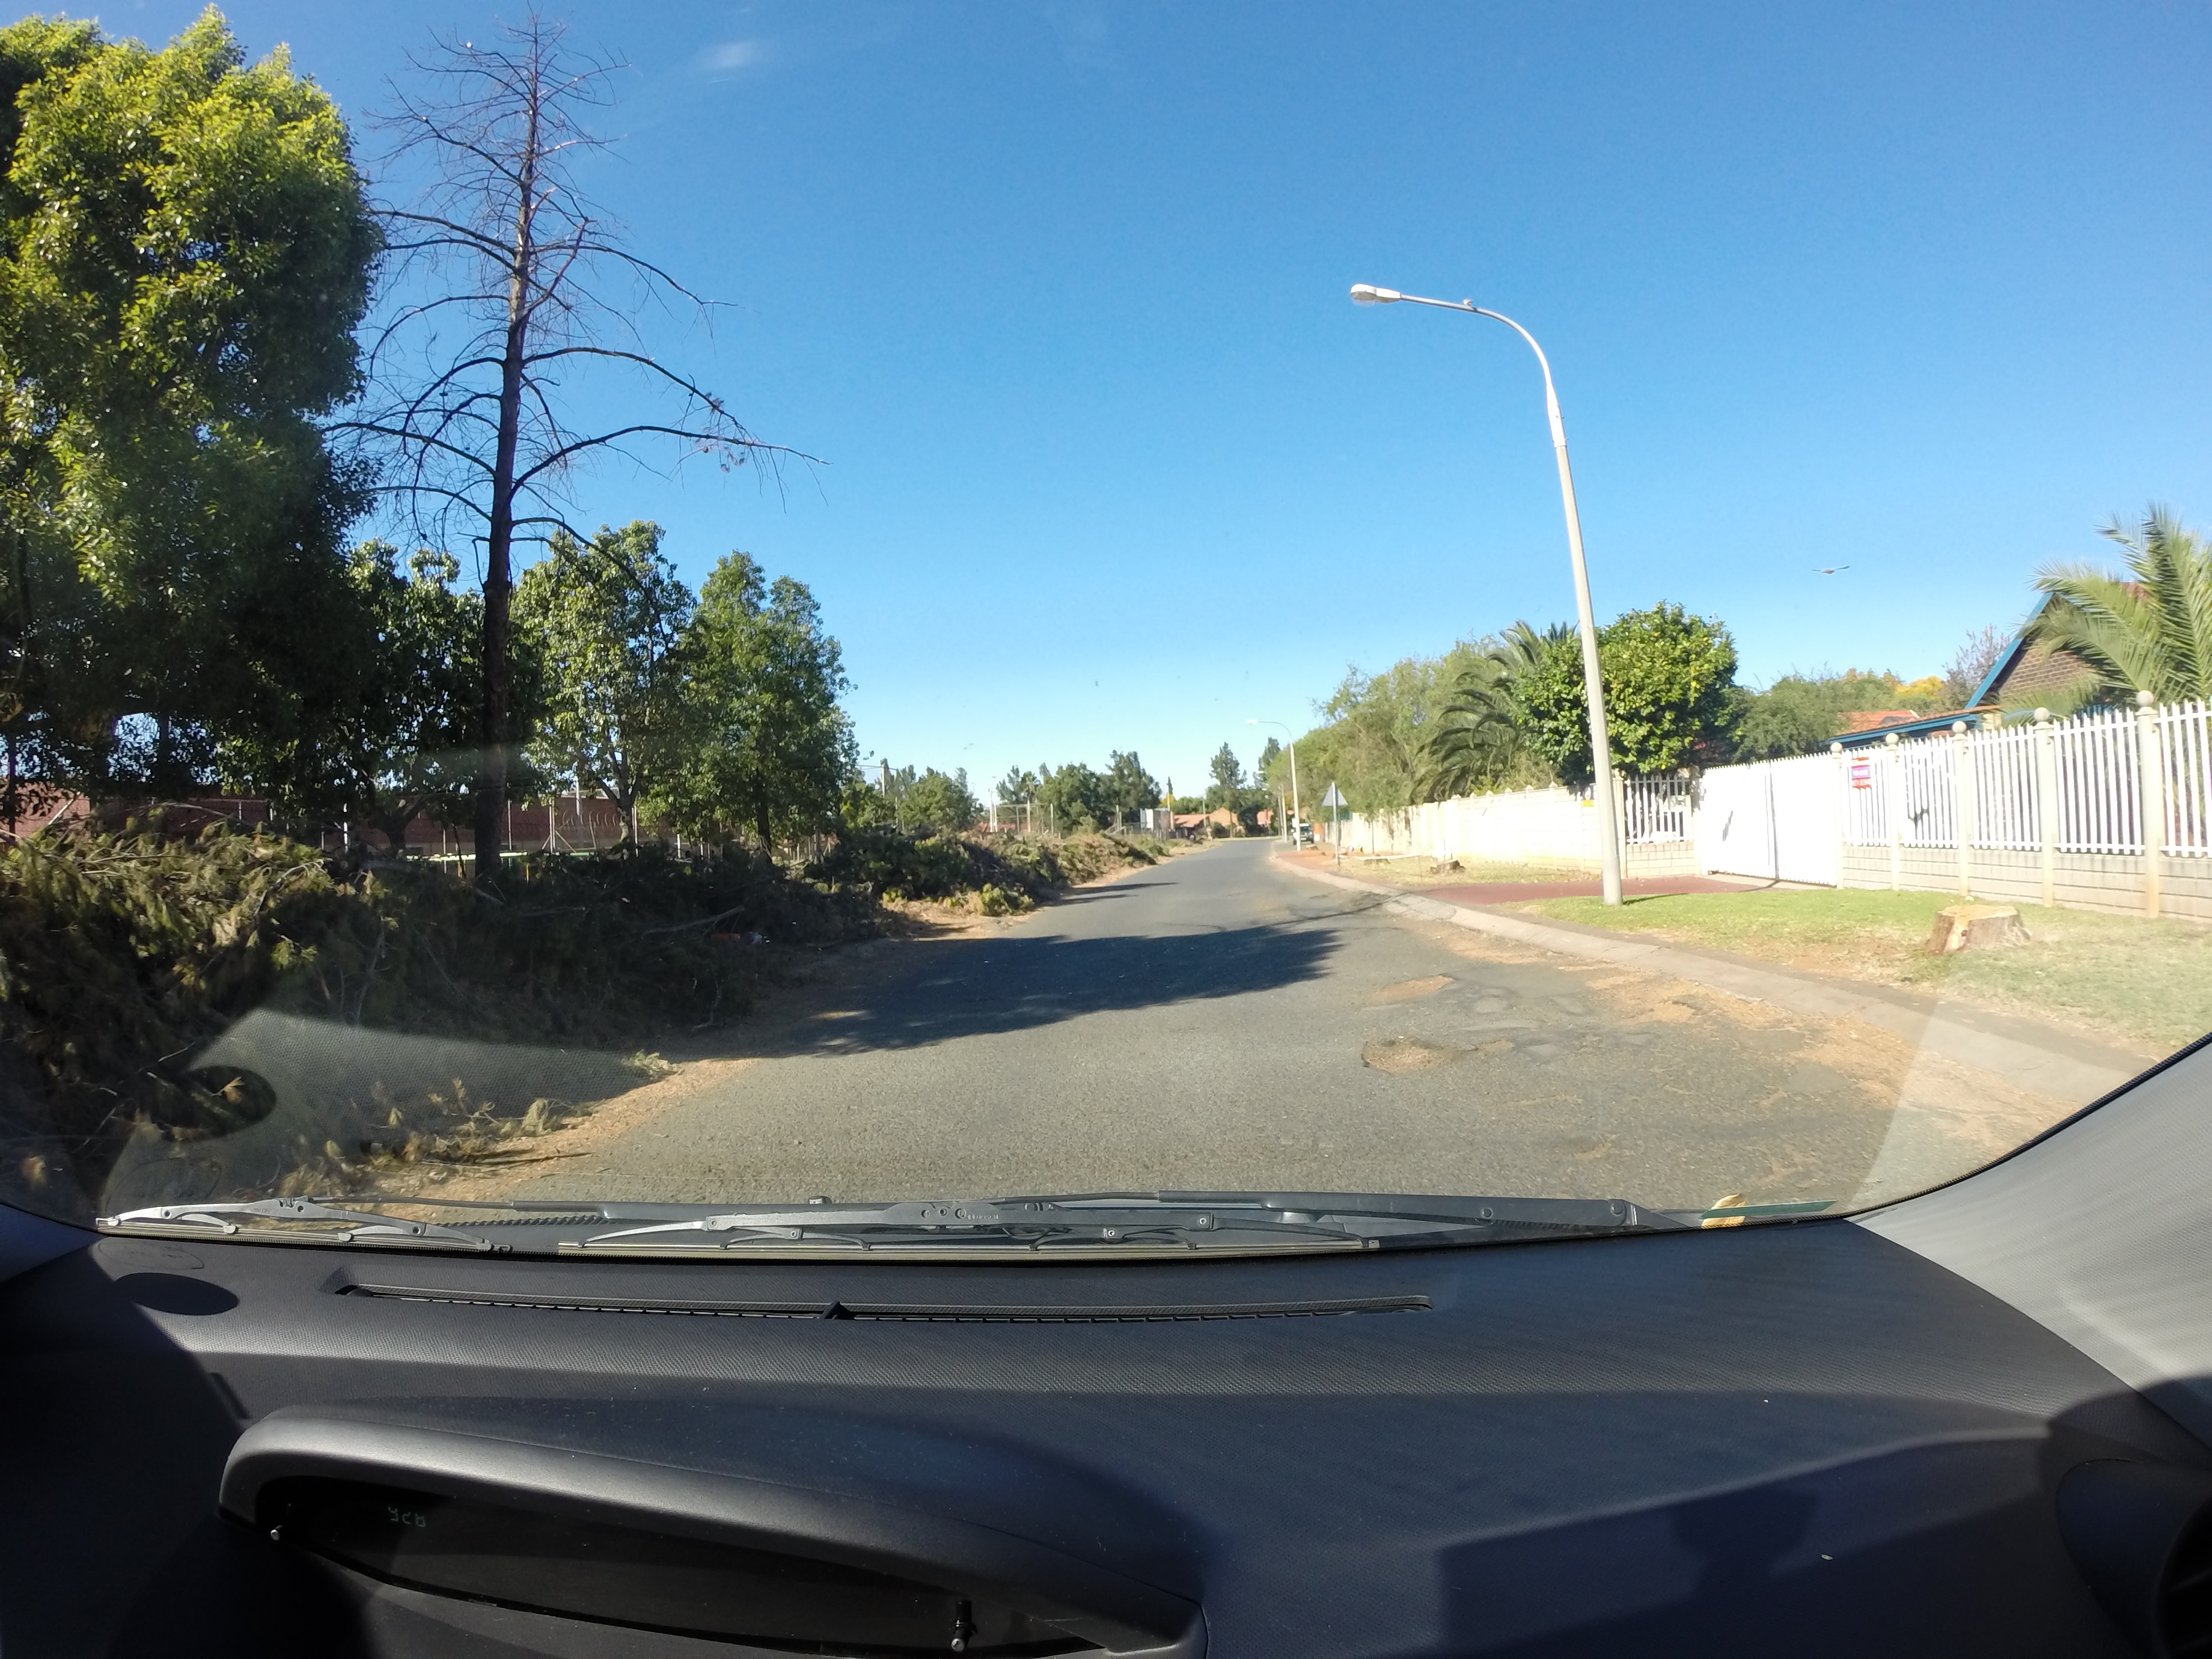pothole: (1343, 1012, 1500, 1103)
